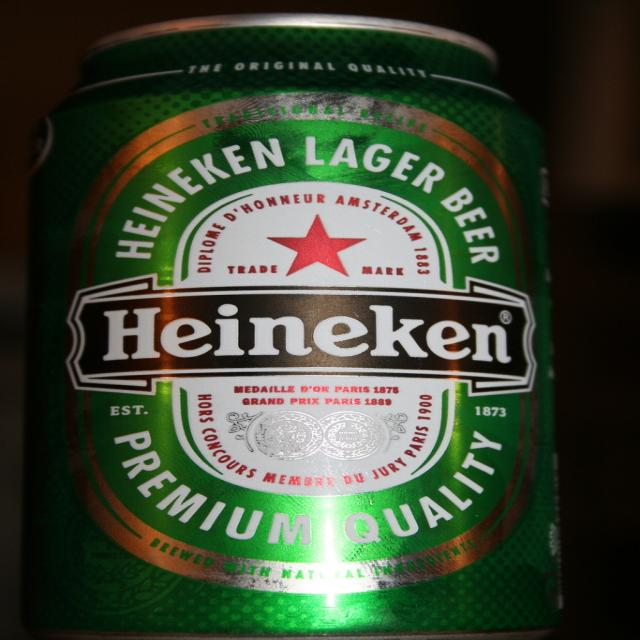heineken: (56, 94, 540, 599)
